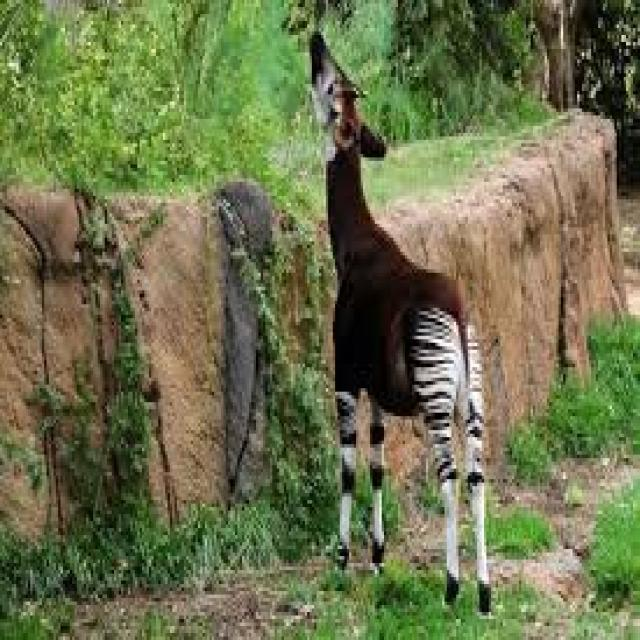Okapi: (301, 18, 498, 622)
